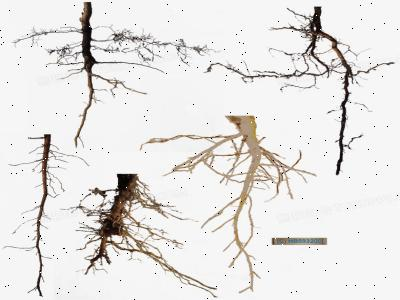Root: (170, 116, 315, 293), (75, 174, 216, 297), (27, 2, 146, 146), (276, 7, 355, 174), (33, 134, 50, 296)
